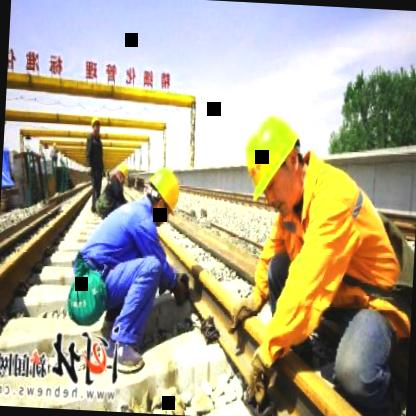helmet: (230, 101, 314, 218), (142, 162, 185, 224), (114, 162, 129, 187), (87, 113, 101, 138)
